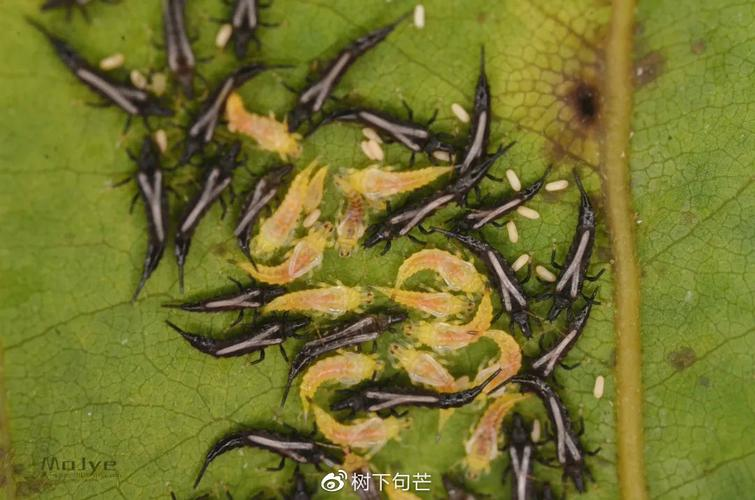Phlaeothripidae: (361, 140, 515, 259), (279, 11, 410, 140), (27, 16, 166, 122), (278, 303, 416, 409), (426, 223, 541, 343), (111, 133, 185, 308), (170, 141, 245, 289), (537, 169, 608, 325), (189, 423, 355, 489), (509, 371, 594, 497), (322, 367, 501, 421), (229, 152, 298, 280), (527, 282, 614, 383), (162, 310, 313, 367), (451, 172, 556, 238), (447, 42, 494, 185), (149, 1, 216, 101), (340, 100, 444, 161), (153, 278, 288, 324), (490, 411, 556, 500), (211, 1, 291, 66)
